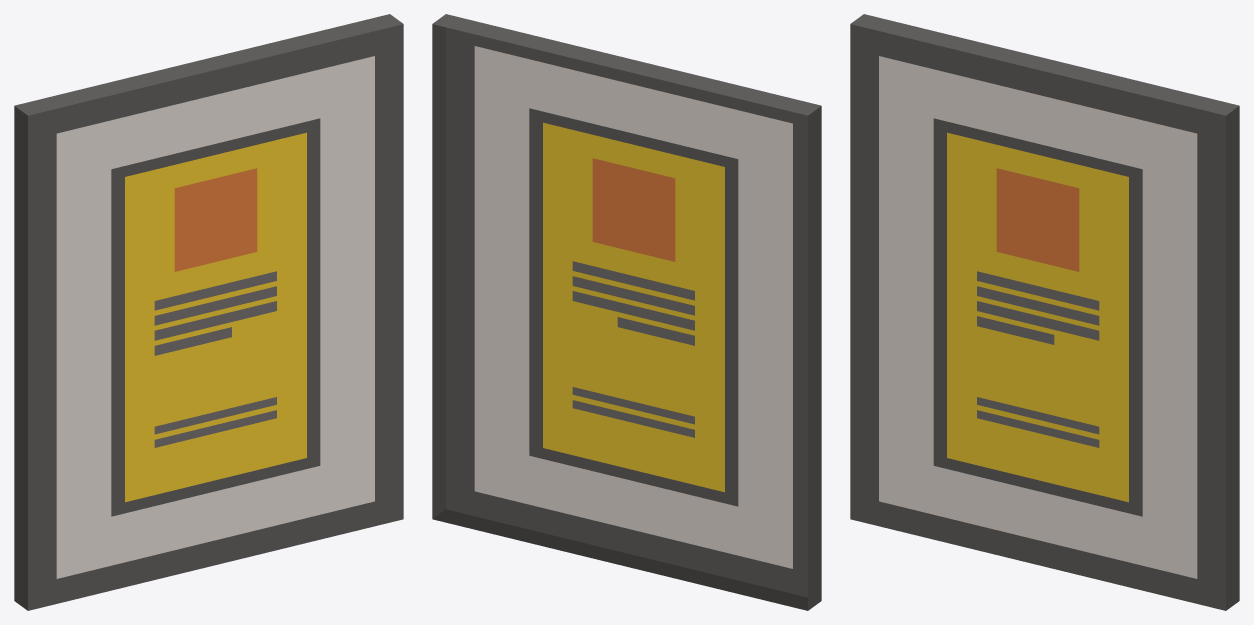
The model's file is AwardFrame.glb.
3 views of the same model, side by side, from view 1: azimuth 30°, elevation 25°; view 2: azimuth 150°, elevation 25°; view 3: azimuth 330°, elevation 25° (orthographic).
Parts seen in each view (by area): view 1: SO_AwardFrame; view 2: SO_AwardFrame; view 3: SO_AwardFrame.
Part boxes in pixels (x1,y1,x2,y2): SO_AwardFrame: (14, 14, 403, 610); SO_AwardFrame: (432, 14, 821, 610); SO_AwardFrame: (850, 14, 1239, 610).
Bounding box in the file's own units: 0.00928 × 0.0117 × 0.000587.
Materials: 1 (1 with a texture image).
